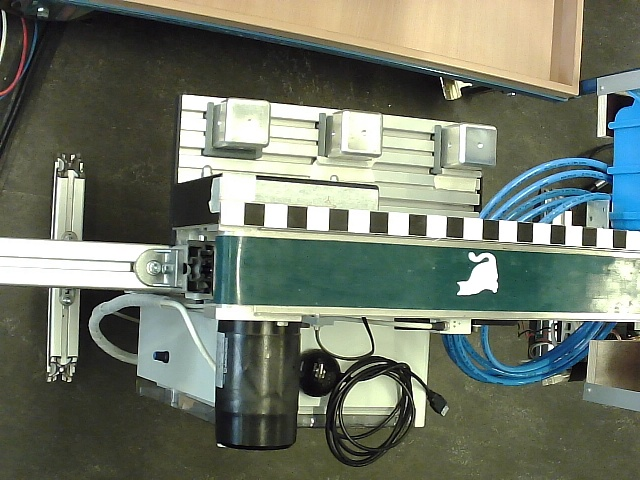cat: (456, 251, 500, 297)
